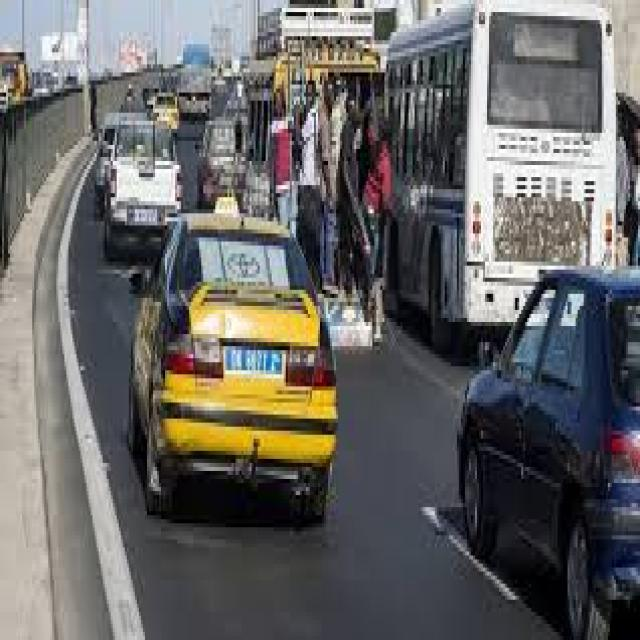bus tata: (388, 1, 616, 348)
camion: (181, 47, 210, 118)
car rapide: (246, 1, 388, 334)
particulier: (460, 271, 640, 638), (98, 116, 182, 261), (204, 121, 245, 208)
taxi: (130, 224, 338, 521), (155, 96, 180, 127)
